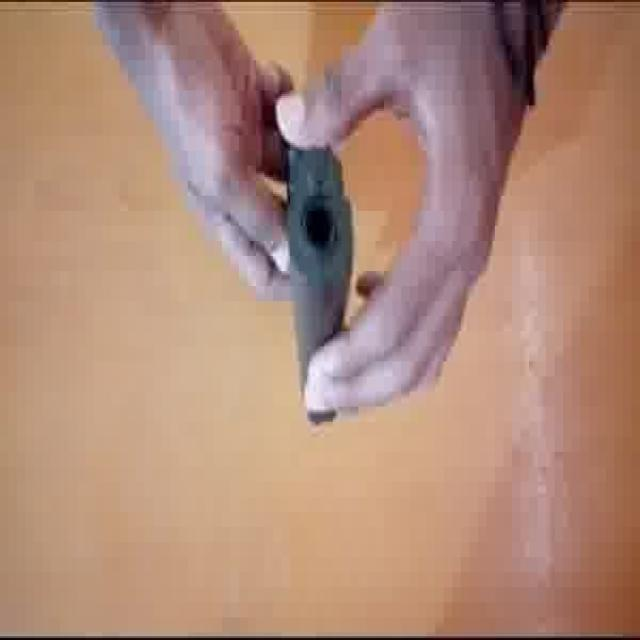weapon: (282, 142, 356, 426)
